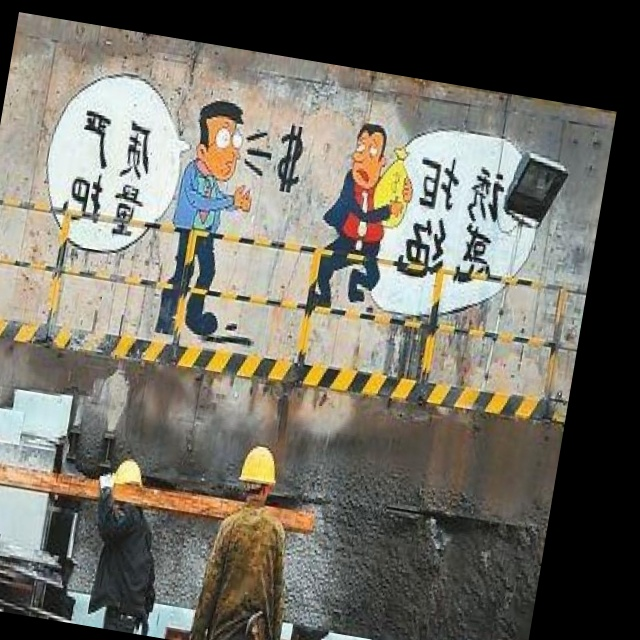Con_Casco: (236, 442, 280, 508)
